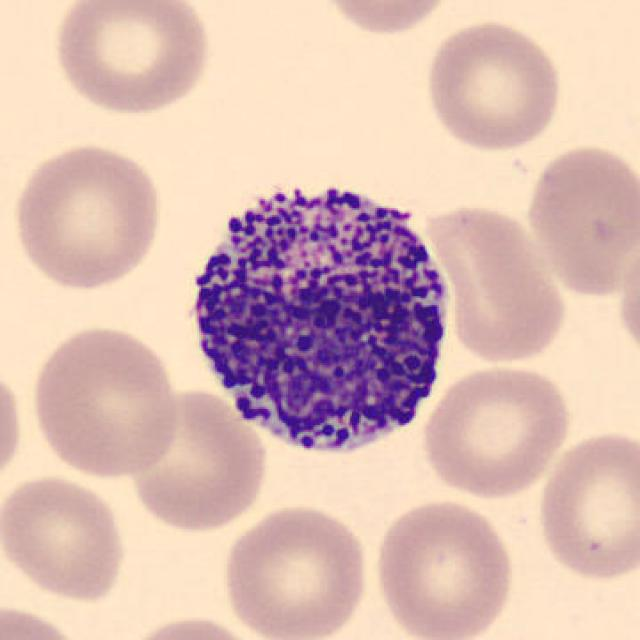Basophil: (171, 160, 464, 472)
RBC: (421, 197, 571, 367), (27, 321, 185, 481), (7, 138, 165, 294), (121, 384, 272, 536), (418, 360, 576, 500), (217, 499, 373, 640), (370, 495, 517, 640), (420, 16, 567, 155), (48, 0, 215, 118), (521, 139, 638, 300), (0, 470, 132, 604), (532, 427, 638, 585), (311, 0, 461, 39), (112, 612, 274, 640), (613, 226, 640, 370), (0, 599, 91, 640), (0, 358, 27, 494)
